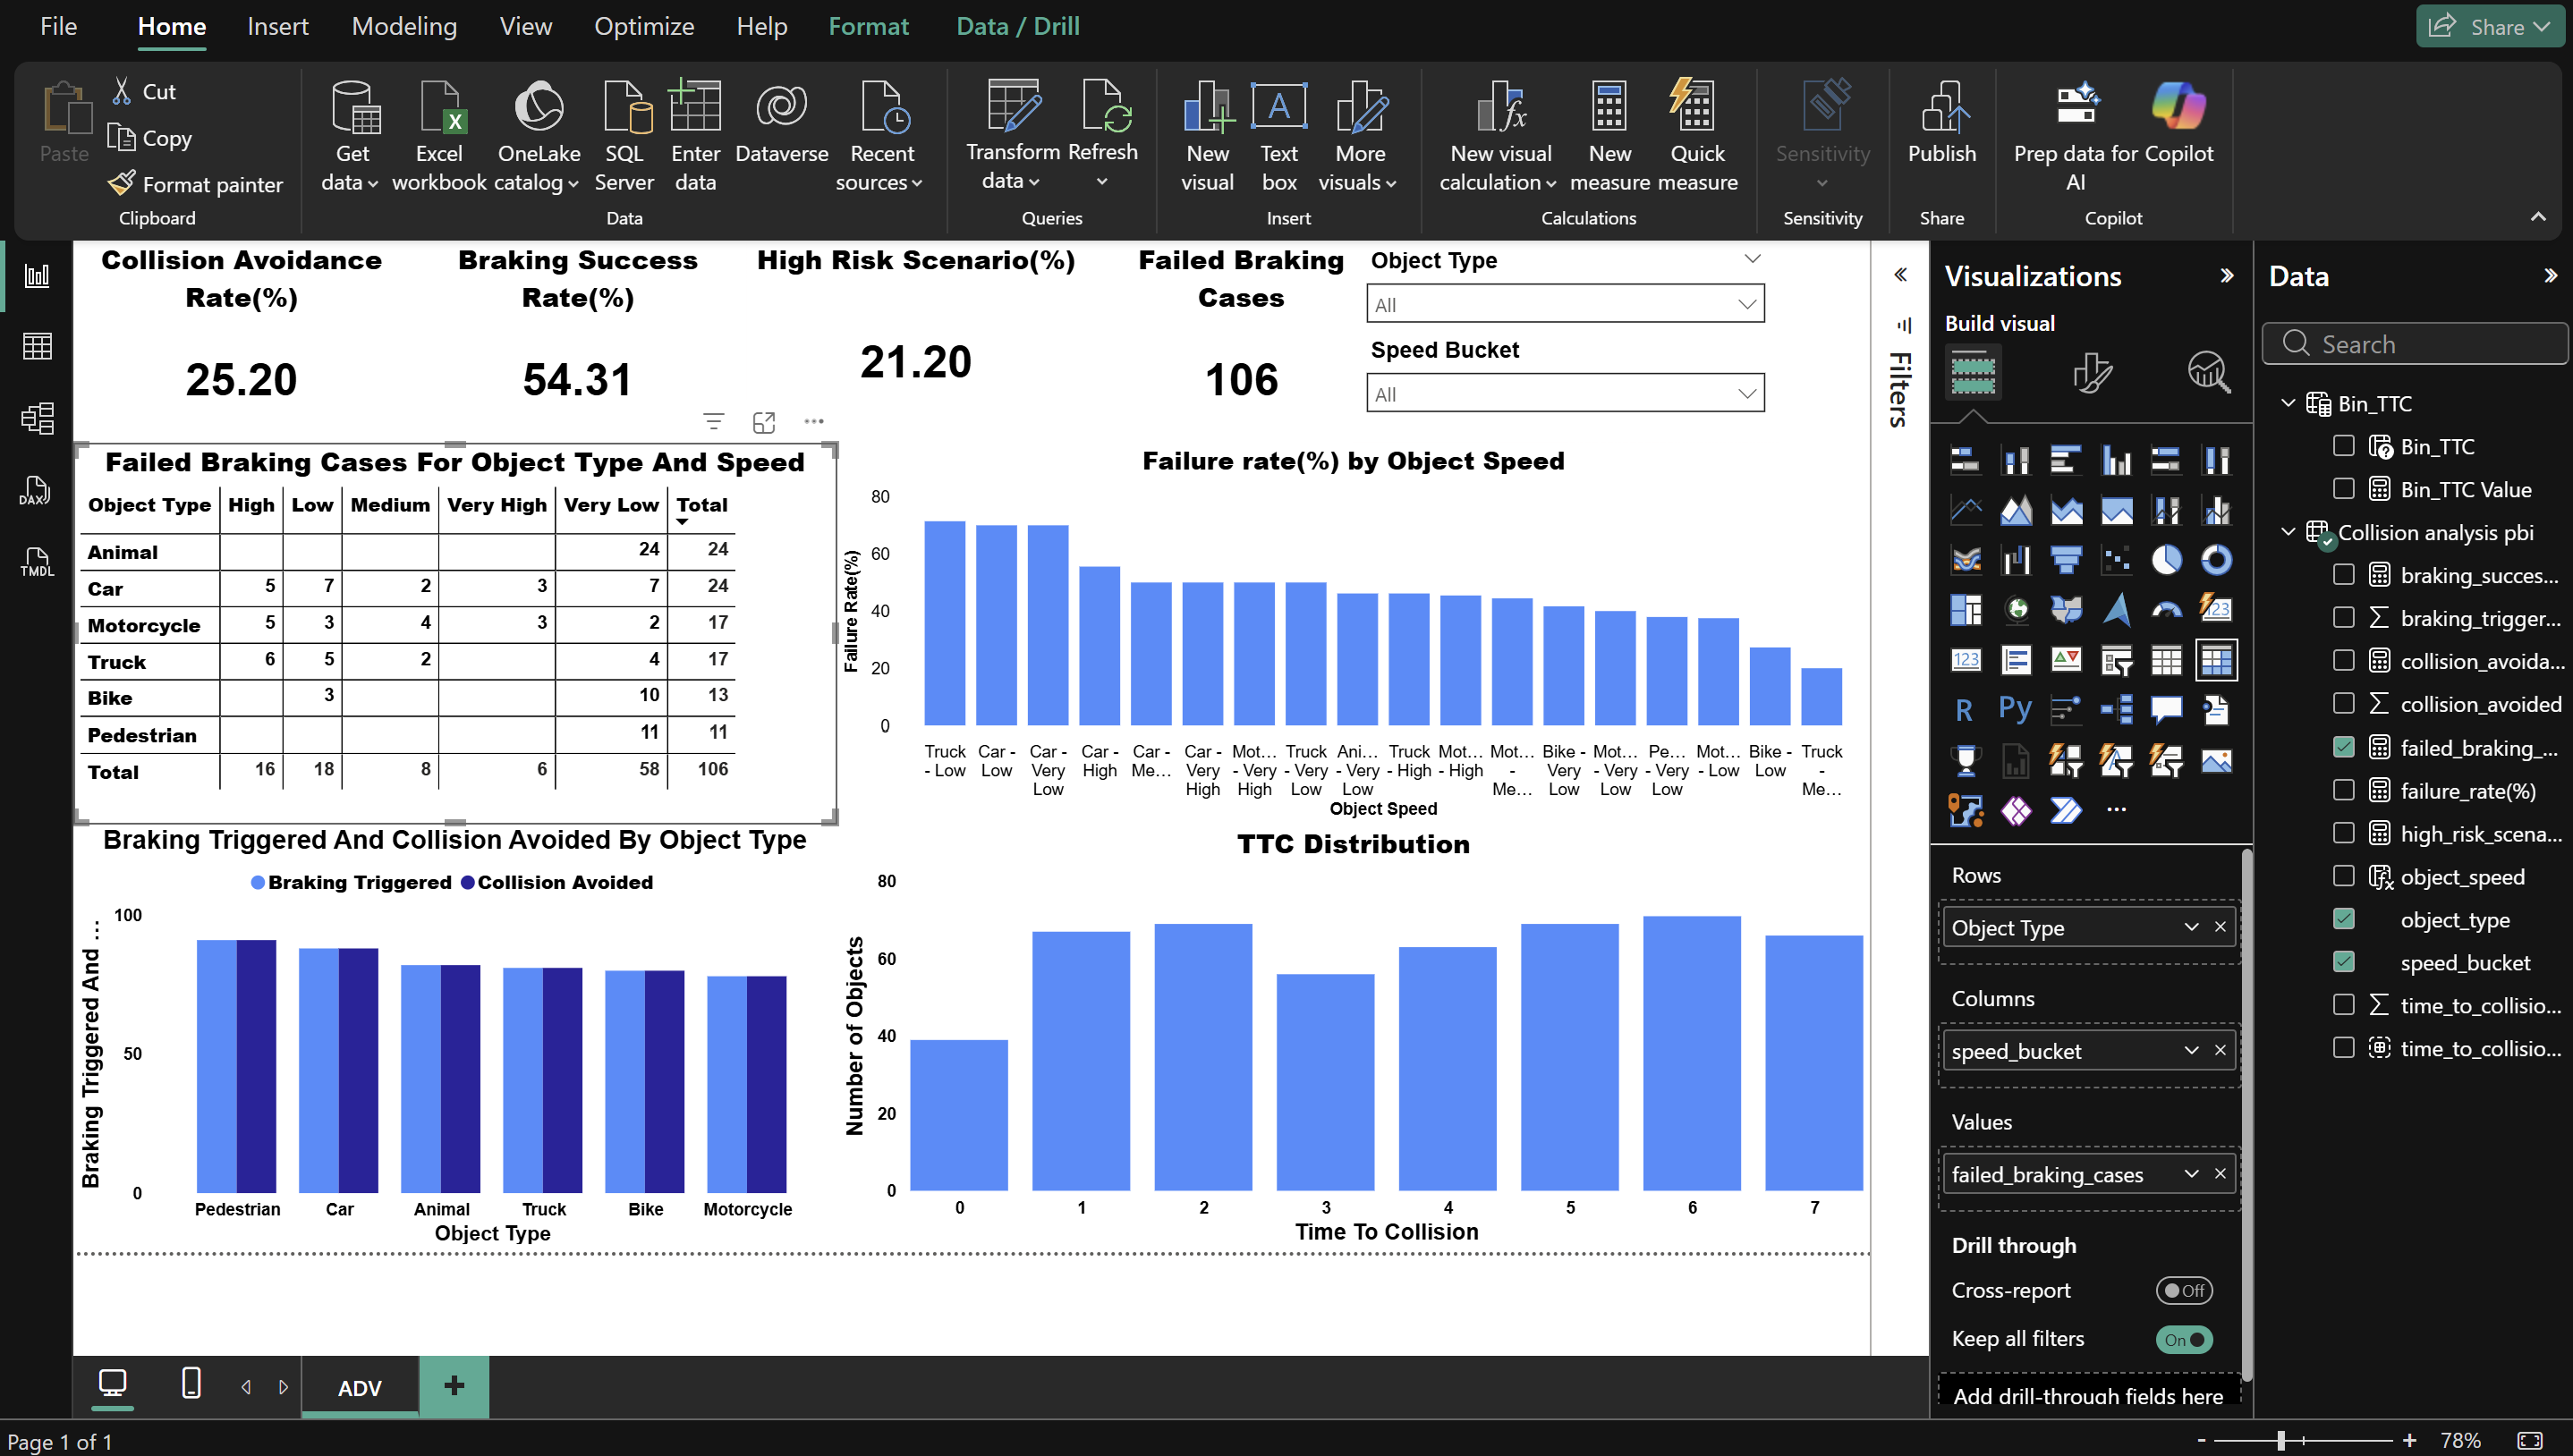

The page's visual inventory and layout, read from the dashboard file:
{"tool":"powerbi","page":{"name":"Page 1","canvas":[1280,720],"ordinal":0},"visuals":[{"type":"card","title":"Collision Avoidance Rate(%)","fields":{"Values":["Collision analysis pbi.collision_avoidance_rate(%)"]},"box":[0,0,240,144],"z":0},{"type":"card","title":"Braking Success Rate(%)","fields":{"Values":["Collision analysis pbi.braking_success_rate"]},"box":[240,0,240,144],"z":1000},{"type":"card","title":"High Risk Scenario(%)","fields":{"Values":["Collision analysis pbi.high_risk_acenario(%)"]},"box":[480,0,240,144],"z":2000},{"type":"card","title":"Failed Braking Cases","fields":{"Values":["Collision analysis pbi.failed_braking_cases"]},"box":[720,0,224,144],"z":3000},{"type":"pivotTable","title":"Failed Braking Cases For Object Type And Speed","fields":{"Rows":["Collision analysis pbi.object_type"],"Columns":["Collision analysis pbi.speed_bucket"],"Values":["Collision analysis pbi.failed_braking_cases"]},"box":[0,144,544,272],"z":4000},{"type":"clusteredColumnChart","title":"Failure rate(%) by Object Speed","fields":{"Category":["Collision analysis pbi.object_speed"],"Y":["Collision analysis pbi.failure_rate(%)"]},"box":[544,144,736,272],"z":5000},{"type":"clusteredColumnChart","title":"Braking Triggered And Collision Avoided By Object Type","fields":{"Category":["Collision analysis pbi.object_type"],"Y":["CountNonNull(Collision analysis pbi.braking_triggered)","CountNonNull(Collision analysis pbi.collision_avoided)"]},"box":[0,416,544,304],"z":6000},{"type":"clusteredColumnChart","title":"TTC Distribution","fields":{"Y":["CountNonNull(Collision analysis pbi.object_type)"],"Category":["Collision analysis pbi.time_to_collision_sec (bins)"]},"box":[544,416,736,304],"z":7000},{"type":"slicer","title":"Object Type","fields":{"Values":["Collision analysis pbi.object_type"]},"box":[912,0,304,64],"z":8000},{"type":"slicer","fields":{"Values":["Collision analysis pbi.speed_bucket"]},"box":[912,64,304,80],"z":9000}]}

Visuals, with their boxes on the page's 1280x720 design canvas (x1, y1, x2, y2). These are canvas units, not pixel positions in the 2573x1456 screenshot, which may show the page scaled, cropped or inside an application window:
"Collision Avoidance Rate(%)" card: x1=0, y1=0, x2=240, y2=144
"Braking Success Rate(%)" card: x1=240, y1=0, x2=480, y2=144
"High Risk Scenario(%)" card: x1=480, y1=0, x2=720, y2=144
"Failed Braking Cases" card: x1=720, y1=0, x2=944, y2=144
"Failed Braking Cases For Object Type And Speed" pivotTable: x1=0, y1=144, x2=544, y2=416
"Failure rate(%) by Object Speed" clusteredColumnChart: x1=544, y1=144, x2=1280, y2=416
"Braking Triggered And Collision Avoided By Object Type" clusteredColumnChart: x1=0, y1=416, x2=544, y2=720
"TTC Distribution" clusteredColumnChart: x1=544, y1=416, x2=1280, y2=720
"Object Type" slicer: x1=912, y1=0, x2=1216, y2=64
slicer - Collision analysis pbi.speed_bucket: x1=912, y1=64, x2=1216, y2=144
